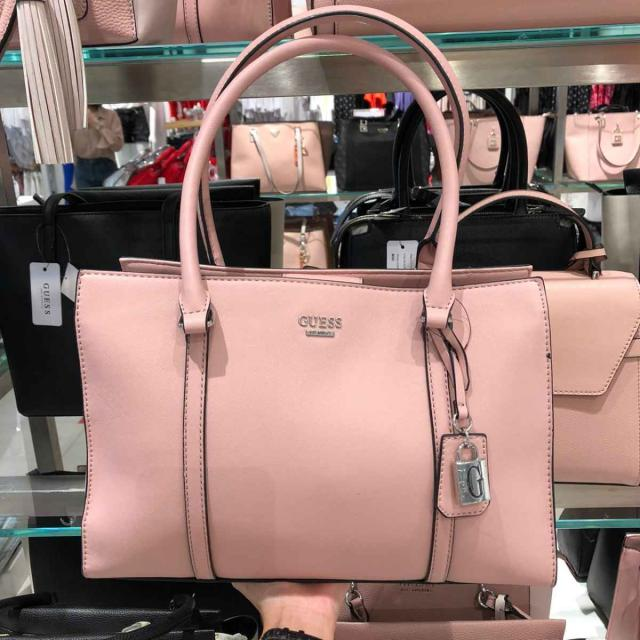handbag: (75, 242, 557, 587)
